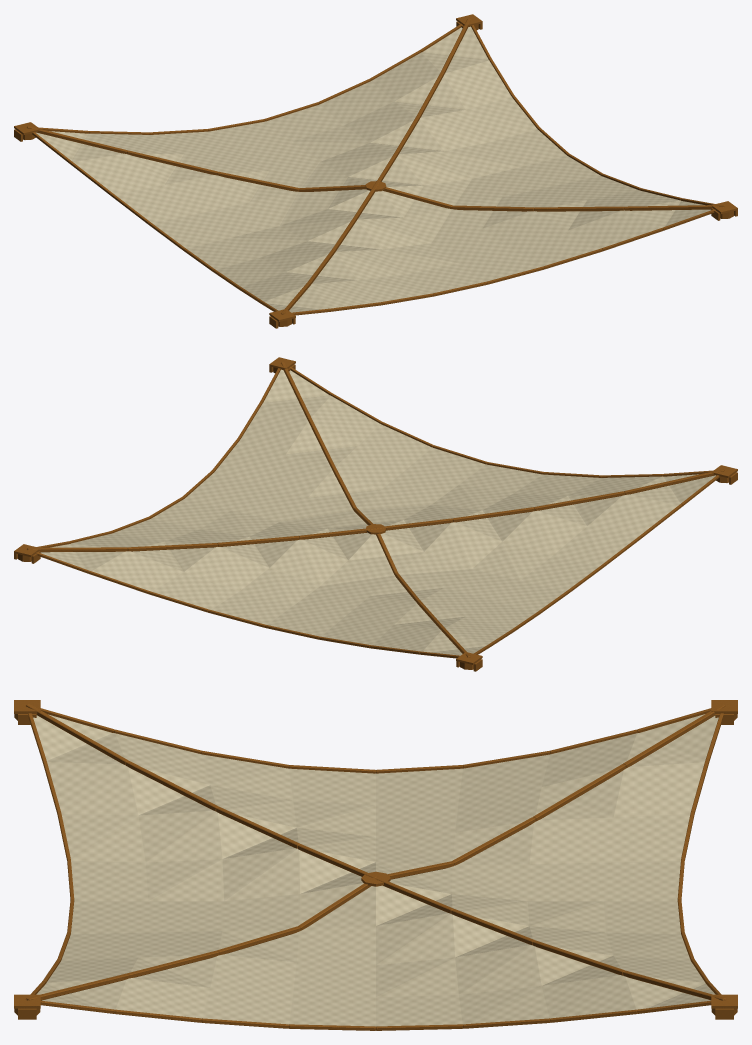
The picture shows the model from 3 angles, top to bottom: view 1: azimuth 30°, elevation 25°; view 2: azimuth 150°, elevation 25°; view 3: azimuth 270°, elevation 25°; orthographic projection. The views are drawn at different scales.
Parts seen in each view (by area): view 1: Shallow scalloped four-point tension textile.001; view 2: Shallow scalloped four-point tension textile.001; view 3: Shallow scalloped four-point tension textile.001, Diagonal raised sewn rib.024, Diagonal raised sewn rib.032, Diagonal raised sewn rib.033, Diagonal raised sewn rib.025, Diagonal raised sewn rib.031, Diagonal raised sewn rib.030, Diagonal raised sewn rib.039, Diagonal raised sewn rib.034, Diagonal raised sewn rib.038, Diagonal raised sewn rib.026, Diagonal raised sewn rib.029 (+2 smaller).
Part boxes in pixels (x1,y1,x2,y2): Shallow scalloped four-point tension textile.001: (36, 26, 710, 312); Shallow scalloped four-point tension textile.001: (40, 369, 715, 655); Shallow scalloped four-point tension textile.001: (33, 714, 718, 1026); Diagonal raised sewn rib.024: (26, 704, 128, 765); Diagonal raised sewn rib.032: (623, 704, 725, 768); Diagonal raised sewn rib.033: (533, 764, 625, 821); Diagonal raised sewn rib.025: (126, 761, 218, 811); Diagonal raised sewn rib.031: (623, 970, 725, 1000); Diagonal raised sewn rib.030: (533, 940, 625, 975); Diagonal raised sewn rib.039: (26, 973, 128, 1000); Diagonal raised sewn rib.034: (451, 817, 535, 865); Diagonal raised sewn rib.038: (126, 950, 218, 978); Diagonal raised sewn rib.026: (216, 806, 300, 848); Diagonal raised sewn rib.029: (451, 909, 535, 945).
Bounding box in the file's own units: 3.55 × 0.2725 × 3.53.
2 materials, 2 textured.
